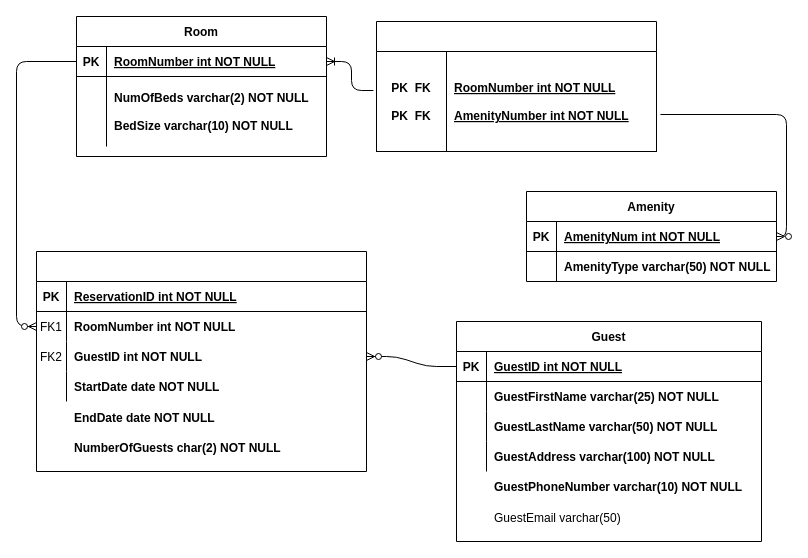
The diagram is 808 pixels wide and 558 high, and some of its shapes have lost their labels. The shapes that lost their labels are listed below. From the top down, each one's box as (x1, y1, x2, y2) in pixels, then its label:
(376, 20, 656, 152): RoomAmenity
(36, 250, 366, 472): RoomReservations
